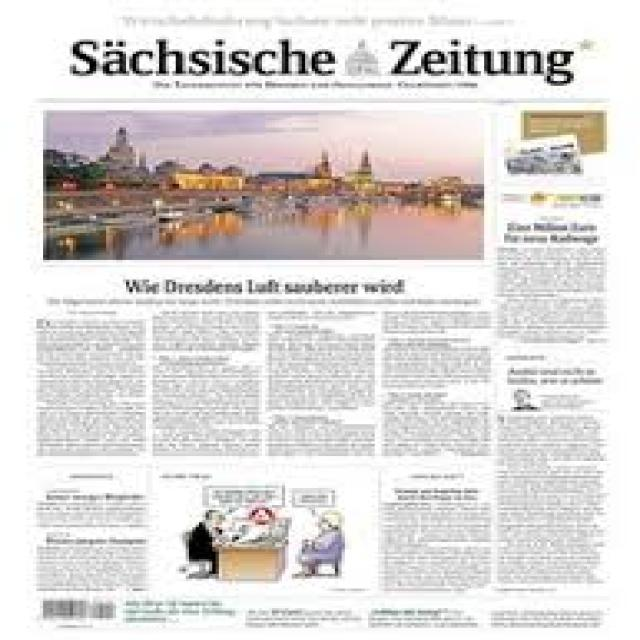paper: (27, 0, 620, 633)
